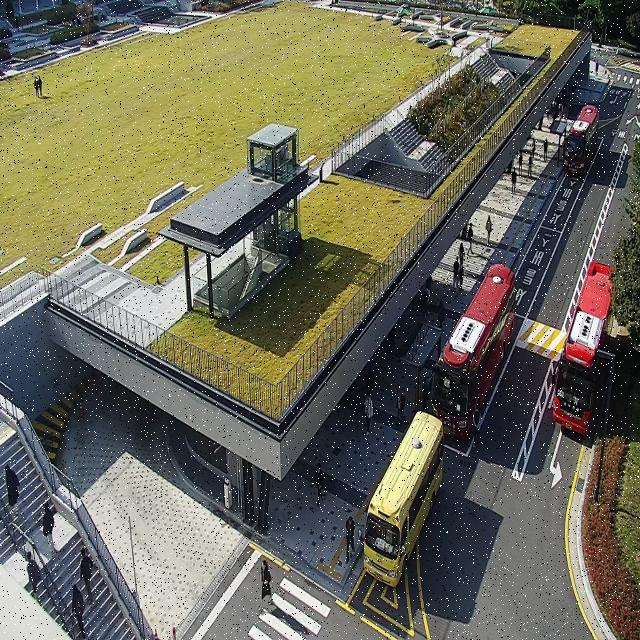queue: (417, 329, 441, 422)
